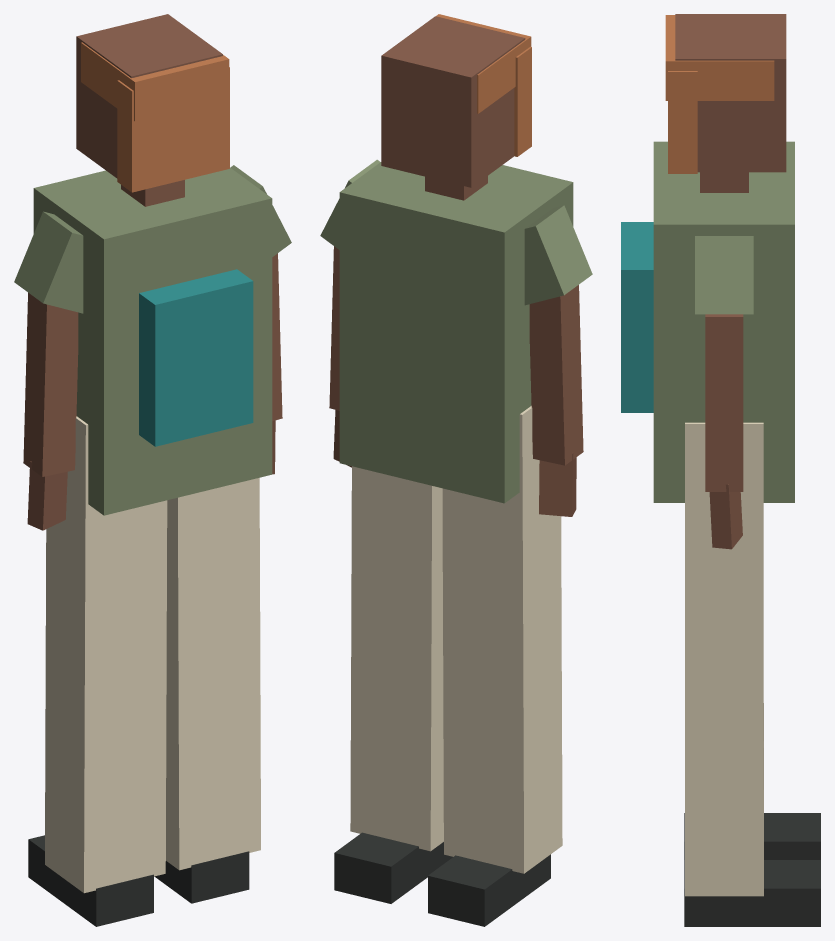
The model's file is pedestrian_06_far.glb.
3 views of the same model, side by side, from view 1: azimuth 30°, elevation 25°; view 2: azimuth 150°, elevation 25°; view 3: azimuth 270°, elevation 25° (orthographic). The views are drawn at different scales.
Visible parts, largest first — view 1: pedestrian_06 crowd_trousers.001, pedestrian_06 crowd_shirt.001, pedestrian_06 crowd_rubber.001, pedestrian_06 crowd_skin.001, Backpack; view 2: pedestrian_06 crowd_trousers.001, pedestrian_06 crowd_shirt.001, pedestrian_06 crowd_skin.001, pedestrian_06 crowd_rubber.001; view 3: pedestrian_06 crowd_shirt.001, pedestrian_06 crowd_trousers.001, pedestrian_06 crowd_skin.001, pedestrian_06 crowd_rubber.001, Backpack.
Part boxes in pixels (x1,y1,x2,y2): pedestrian_06 crowd_trousers.001: [45, 416, 260, 893]; pedestrian_06 crowd_shirt.001: [14, 165, 291, 515]; pedestrian_06 crowd_rubber.001: [28, 42, 249, 926]; pedestrian_06 crowd_skin.001: [23, 14, 282, 530]; Backpack: [139, 269, 253, 446]; pedestrian_06 crowd_trousers.001: [350, 406, 562, 873]; pedestrian_06 crowd_shirt.001: [320, 159, 592, 503]; pedestrian_06 crowd_skin.001: [329, 16, 583, 516]; pedestrian_06 crowd_rubber.001: [334, 14, 550, 926]; pedestrian_06 crowd_shirt.001: [653, 141, 794, 502]; pedestrian_06 crowd_trousers.001: [685, 422, 763, 896]; pedestrian_06 crowd_skin.001: [675, 14, 786, 549]; pedestrian_06 crowd_rubber.001: [665, 15, 820, 926]; Backpack: [621, 222, 653, 412].
Bounding box in the file's own units: 0.527 × 1.71 × 0.3638.
